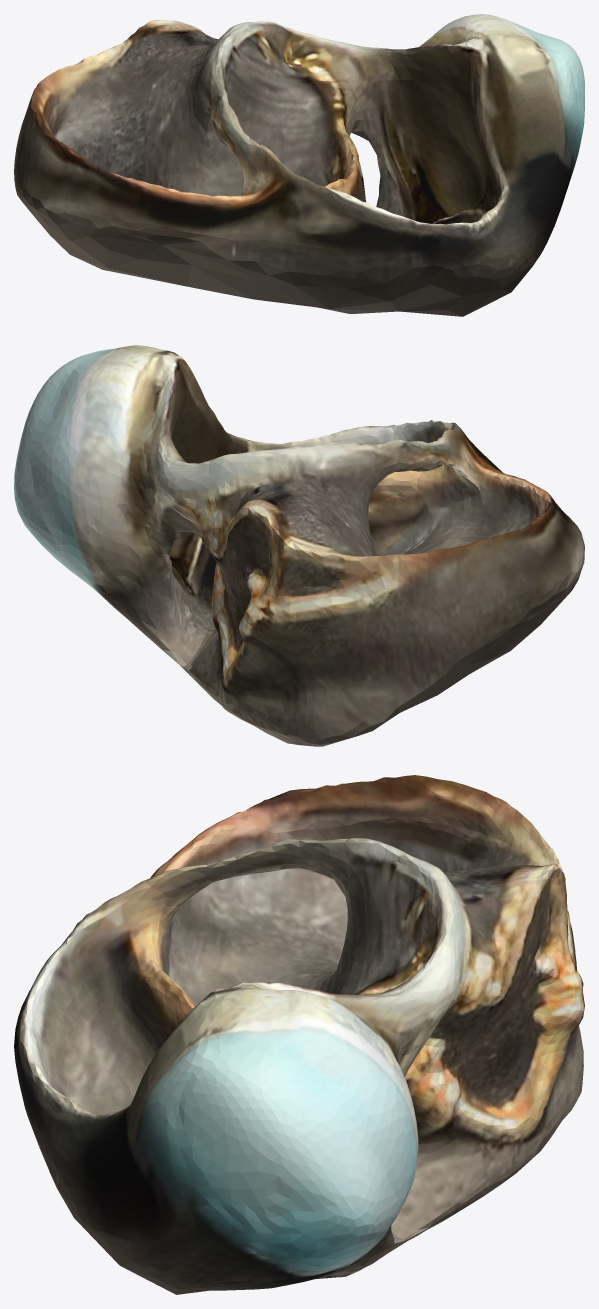
The model's file is Rings Raquel.glb.
3 views of the same model, one above another, from view 1: azimuth 30°, elevation 25°; view 2: azimuth 150°, elevation 25°; view 3: azimuth 270°, elevation 25° (orthographic). The views are drawn at different scales.
Size of the model in its own units: 0.2469 by 0.119 by 0.1743.
1 material, 1 textured.
